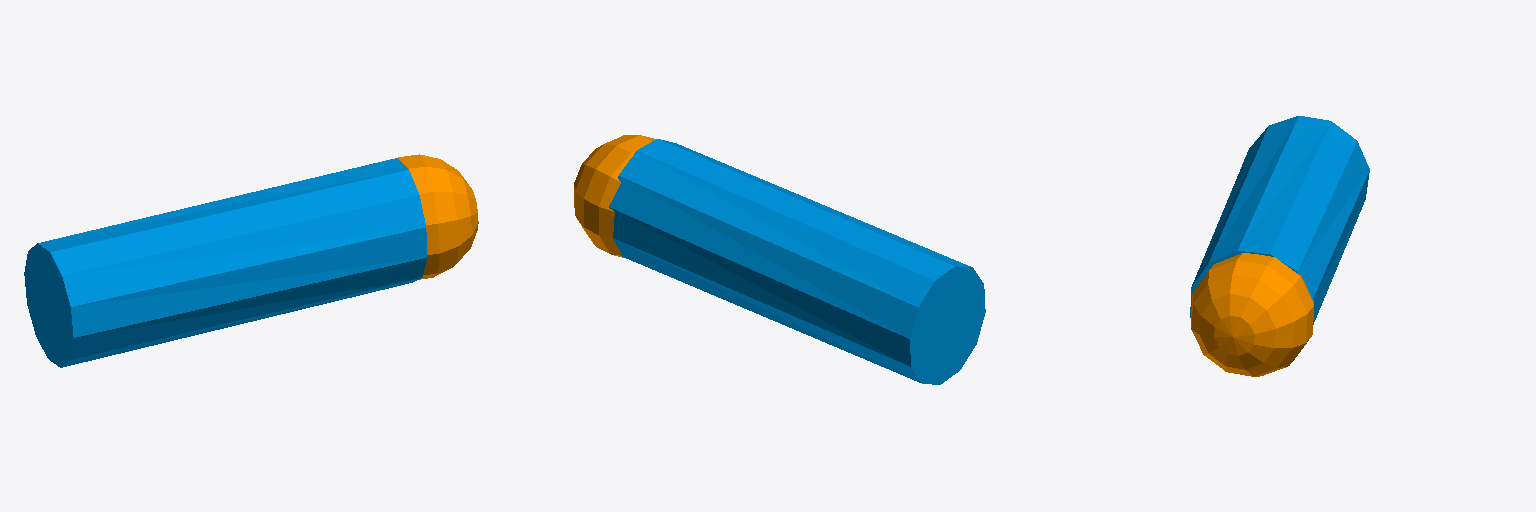
3 renders of one model, left to right at view 1: azimuth 30°, elevation 25°; view 2: azimuth 150°, elevation 25°; view 3: azimuth 270°, elevation 25°, orthographic.
Visible parts, largest first — view 1: group[number redacted], group[number redacted]; view 2: group[number redacted], group[number redacted]; view 3: group[number redacted], group[number redacted].
Boxes of the visible parts, <box> form: group[number redacted]: <box>24,158,426,367</box>; group[number redacted]: <box>398,154,478,279</box>; group[number redacted]: <box>609,139,985,384</box>; group[number redacted]: <box>574,135,655,257</box>; group[number redacted]: <box>1190,116,1369,324</box>; group[number redacted]: <box>1191,253,1313,376</box>.
Bounding box in the file's own units: 0.0728 × 0.0241 × 0.0283.